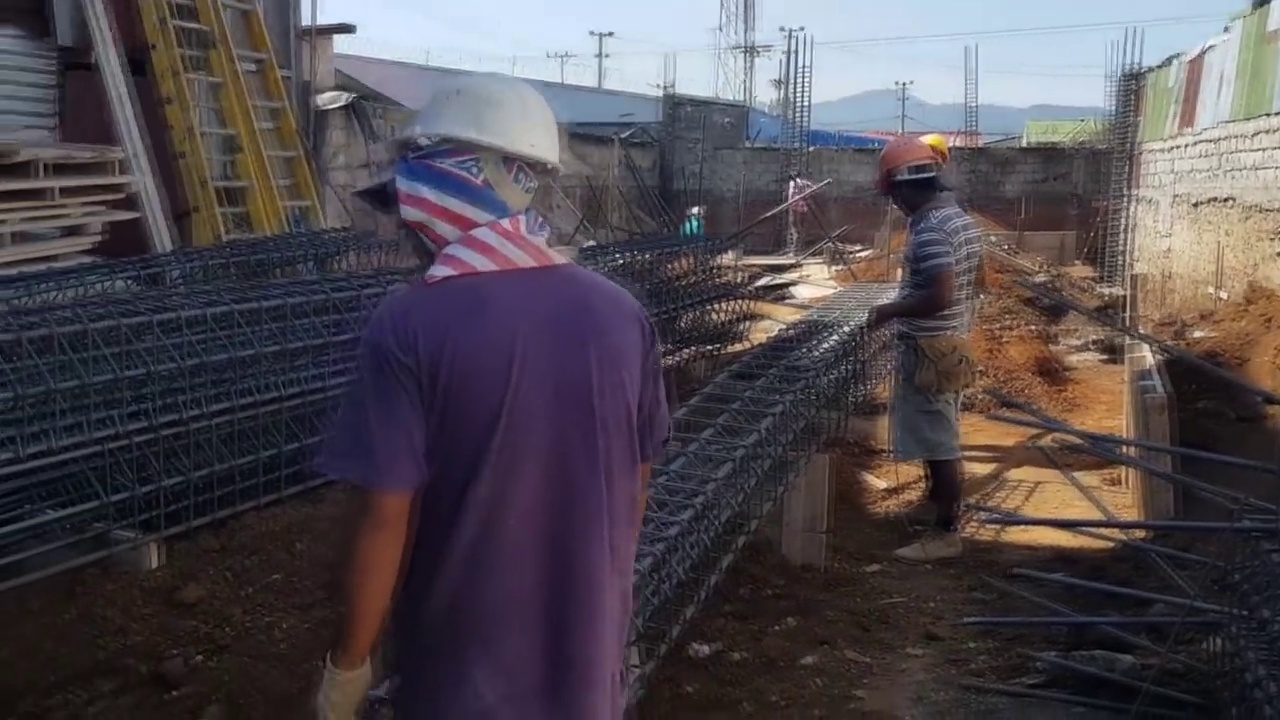helmet: (381, 68, 564, 185), (872, 132, 942, 192), (679, 204, 705, 239), (921, 133, 953, 161), (690, 206, 704, 215)
helmet-on: (376, 64, 588, 282), (873, 130, 957, 221), (687, 205, 703, 220)
person: (305, 74, 679, 717), (852, 127, 980, 562)
